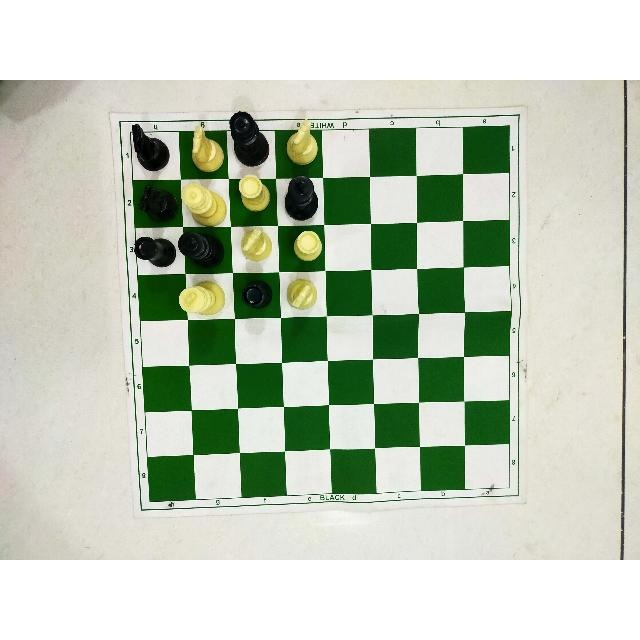black-king: (176, 226, 226, 270), (283, 174, 324, 223)
black-knight: (129, 119, 176, 173), (132, 181, 177, 225)
black-queen: (225, 106, 273, 168)
black-rook: (131, 230, 179, 273), (238, 276, 273, 310)
white-king: (170, 278, 229, 317)
white-knight: (187, 121, 228, 174), (283, 120, 322, 172), (240, 225, 274, 266), (282, 277, 317, 313)
white-queen: (177, 179, 229, 227)
white-rook: (233, 173, 274, 214), (288, 226, 328, 263)
